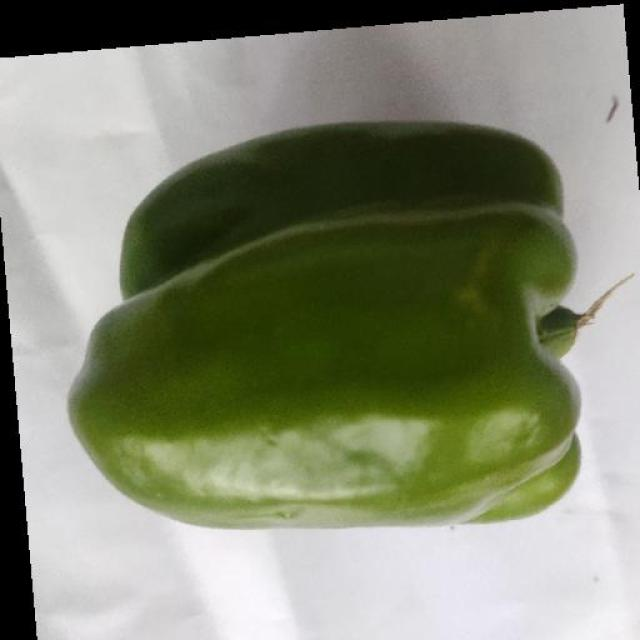Stale_Capsicum: (86, 108, 560, 486)
